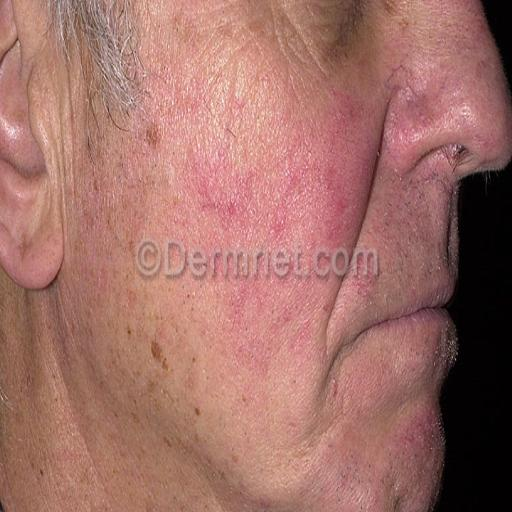Skin_Lesion: (188, 174, 240, 220), (222, 275, 252, 333), (400, 406, 431, 459), (149, 331, 174, 377), (245, 336, 268, 382), (215, 458, 242, 497), (268, 196, 291, 239), (330, 91, 358, 126), (321, 191, 348, 224), (144, 115, 165, 156), (169, 2, 189, 34), (189, 397, 208, 424)
